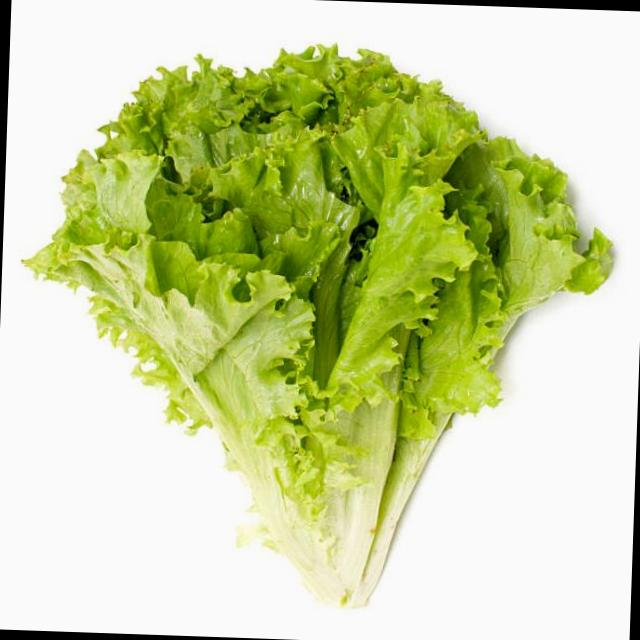Lettuce-Ready-to-Harvest: (27, 46, 611, 606)
